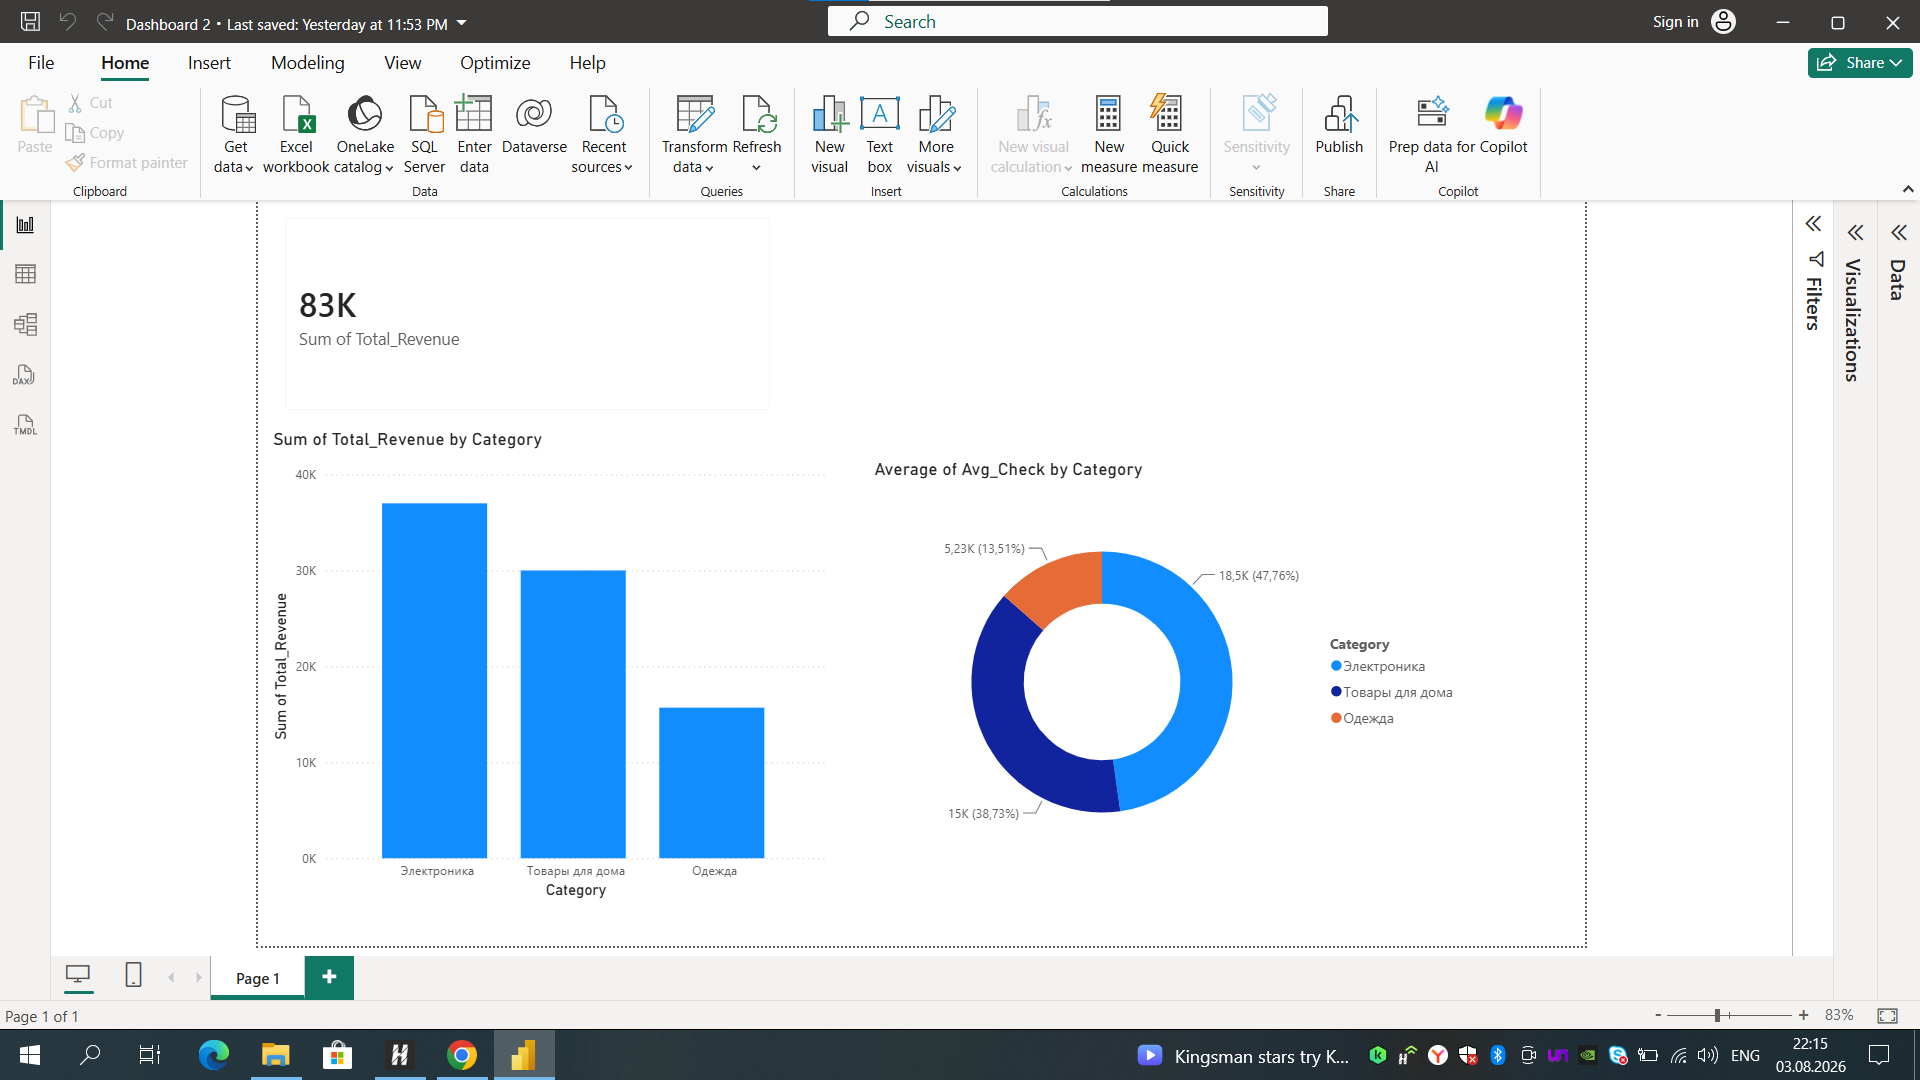

The dashboard page shown, as its layout file describes it:
{"tool":"powerbi","page":{"name":"Page 1","canvas":[1280,720],"ordinal":0},"visuals":[{"type":"cardVisual","fields":{"Data":["Sum(Category_Sales.Total_Revenue)"]},"box":[9.6,0,502.2,220.9],"z":0},{"type":"clusteredColumnChart","fields":{"Category":["Category_Sales.Category"],"Y":["Sum(Category_Sales.Total_Revenue)"]},"box":[9.6,220.9,543.4,458.3],"z":1},{"type":"donutChart","fields":{"Category":["Category_Sales.Category"],"Y":["Avg(Category_Sales.Avg_Check)"]},"box":[590.1,249.7,577.7,400.7],"z":2}]}

Visuals, with their boxes on the page's 1280x720 design canvas (x1, y1, x2, y2). These are canvas units, not pixel positions in the 1920x1080 screenshot, which may show the page scaled, cropped or inside an application window:
cardVisual - Sum(Category_Sales.Total_Revenue): 10,0,512,221
clusteredColumnChart - Category_Sales.Category x Sum(Category_Sales.Total_Revenue): 10,221,553,679
donutChart - Category_Sales.Category x Avg(Category_Sales.Avg_Check): 590,250,1168,650
